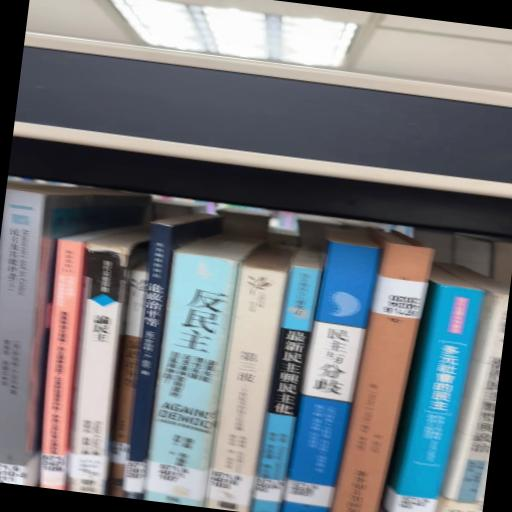book: (145, 236, 262, 508), (284, 231, 382, 512), (207, 247, 296, 512), (41, 229, 131, 491)
reverse: (331, 230, 435, 512)
